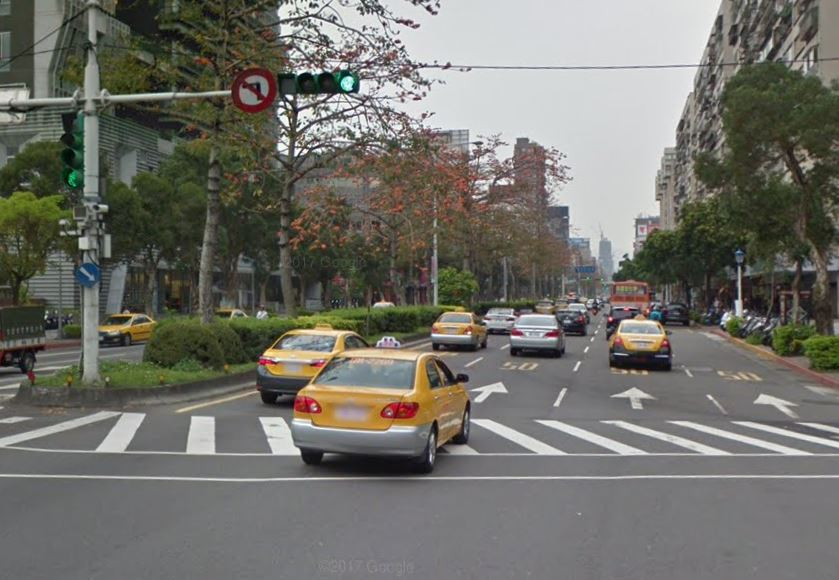No_left_turn: (231, 66, 276, 112)
Traffic_light_green: (276, 71, 359, 93)
